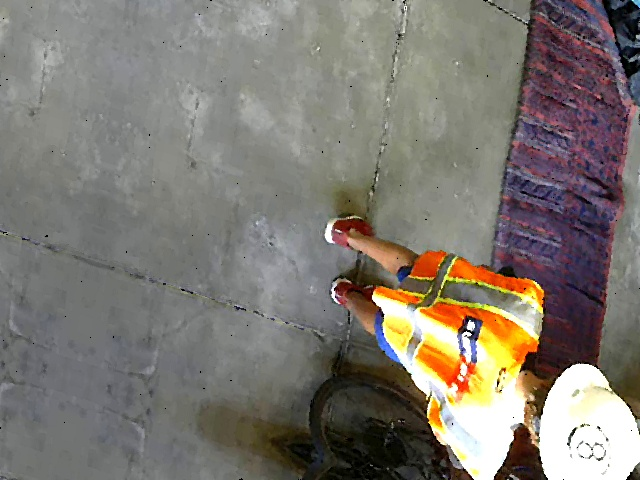eight: (563, 416, 616, 479)
